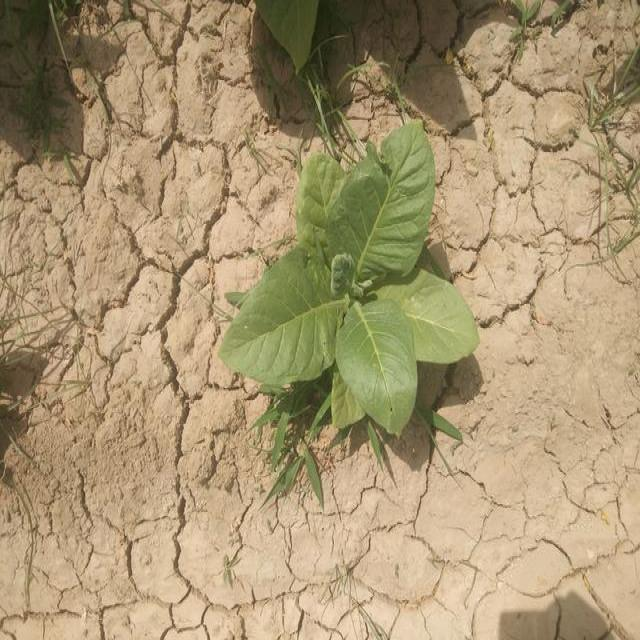crop: (218, 131, 491, 432), (258, 0, 330, 74)
